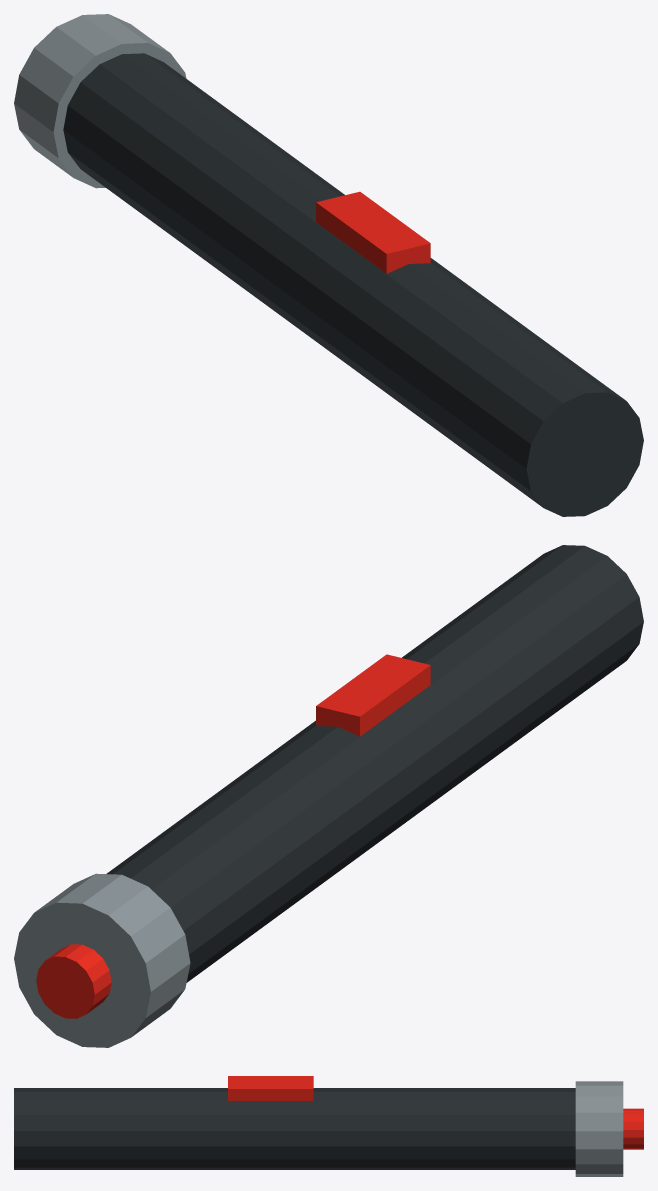
The model's file is laser-v3.glb.
3 renders of one model, top to bottom at view 1: azimuth 30°, elevation 25°; view 2: azimuth 150°, elevation 25°; view 3: azimuth 270°, elevation 25°, orthographic. The views are drawn at different scales.
Parts seen in each view (by area): view 1: LaserBody, LaserCap, LaserButton; view 2: LaserBody, LaserCap, LaserButton, LaserLens; view 3: LaserBody, LaserCap, LaserButton, LaserLens.
Part boxes in pixels (left/top/right/bottom): LaserBody: left=63, top=53, right=643, bottom=516; LaserCap: left=14, top=14, right=186, bottom=188; LaserButton: left=316, top=191, right=430, bottom=273; LaserBody: left=106, top=545, right=643, bottom=982; LaserCap: left=14, top=873, right=190, bottom=1047; LaserButton: left=316, top=654, right=430, bottom=736; LaserLens: left=36, top=944, right=111, bottom=1018; LaserBody: left=14, top=1088, right=575, bottom=1169; LaserCap: left=575, top=1081, right=623, bottom=1176; LaserButton: left=228, top=1076, right=313, bottom=1100; LaserLens: left=623, top=1108, right=643, bottom=1149.
Bounding box in the file's own units: 0.028 × 0.029 × 0.184.
